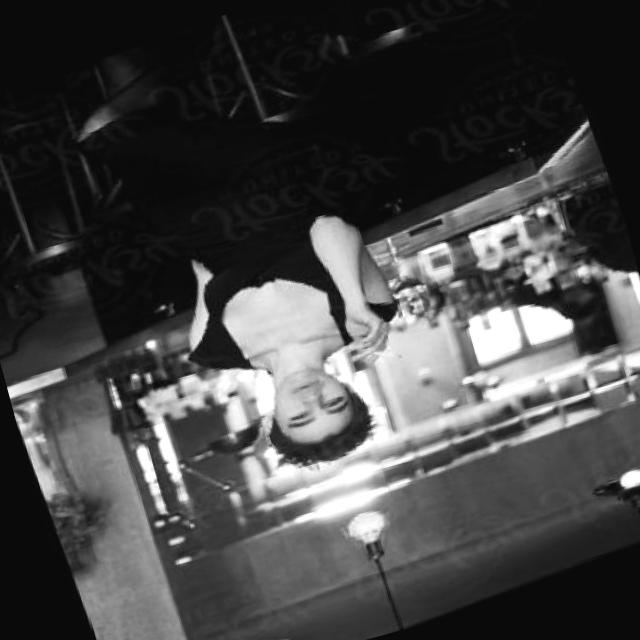smoke: (364, 338, 409, 370)
